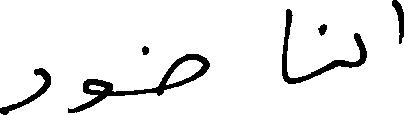X: (141, 41, 209, 100), (0, 63, 49, 114), (68, 74, 110, 114), (319, 19, 343, 79), (279, 4, 290, 88), (392, 0, 403, 48), (354, 28, 366, 71)
